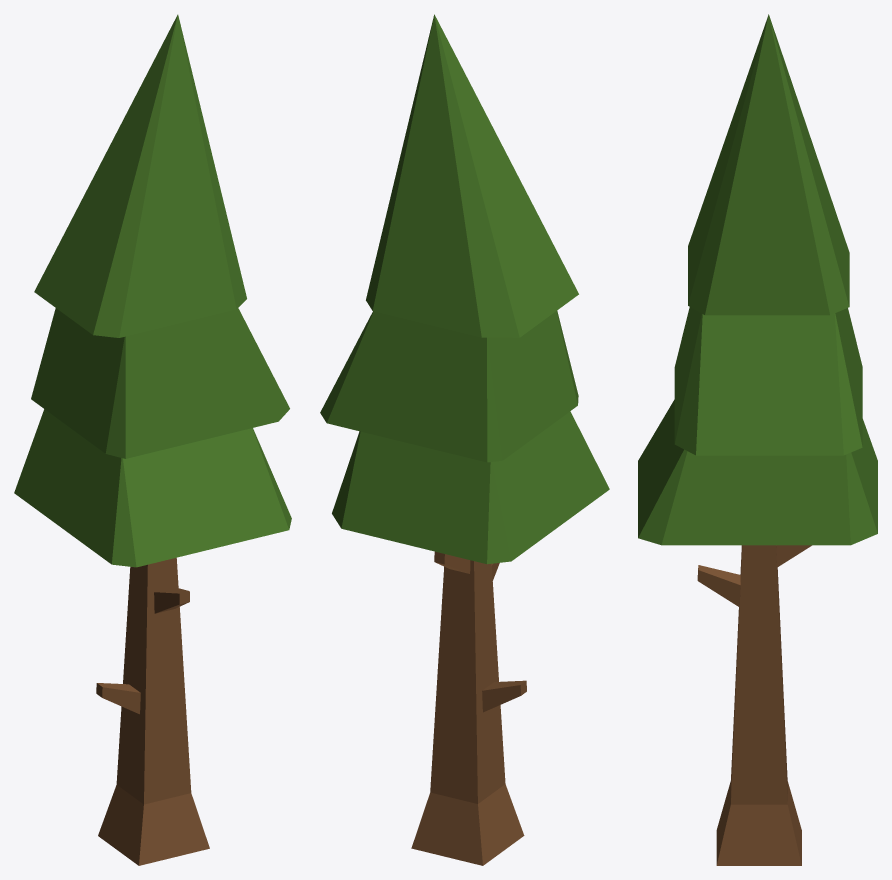
The model's file is tree_pineTallA_detailed.glb.
3 renders of one model, left to right at view 1: azimuth 30°, elevation 25°; view 2: azimuth 150°, elevation 25°; view 3: azimuth 270°, elevation 25°, orthographic. The views are drawn at different scales.
Visible parts, largest first — view 1: tree_pineTallA_detailed; view 2: tree_pineTallA_detailed; view 3: tree_pineTallA_detailed.
Boxes of the visible parts, bbox=[...] form: tree_pineTallA_detailed: bbox=[14, 14, 291, 865]; tree_pineTallA_detailed: bbox=[320, 14, 609, 865]; tree_pineTallA_detailed: bbox=[638, 14, 877, 865].
Size of the model in its own units: 0.3863 by 1.53 by 0.392.
